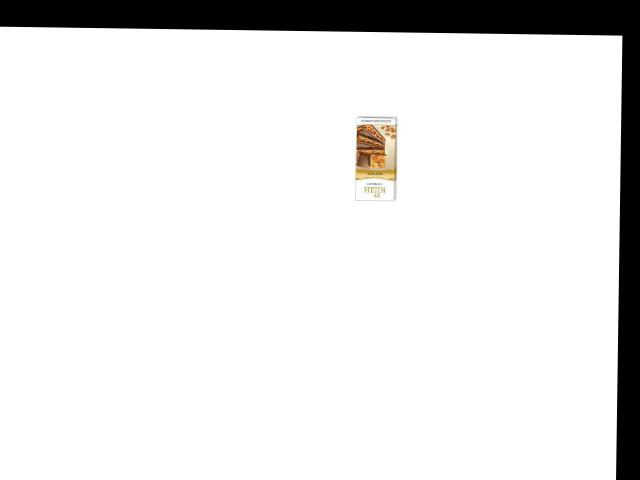chocolate: (347, 113, 413, 206)
